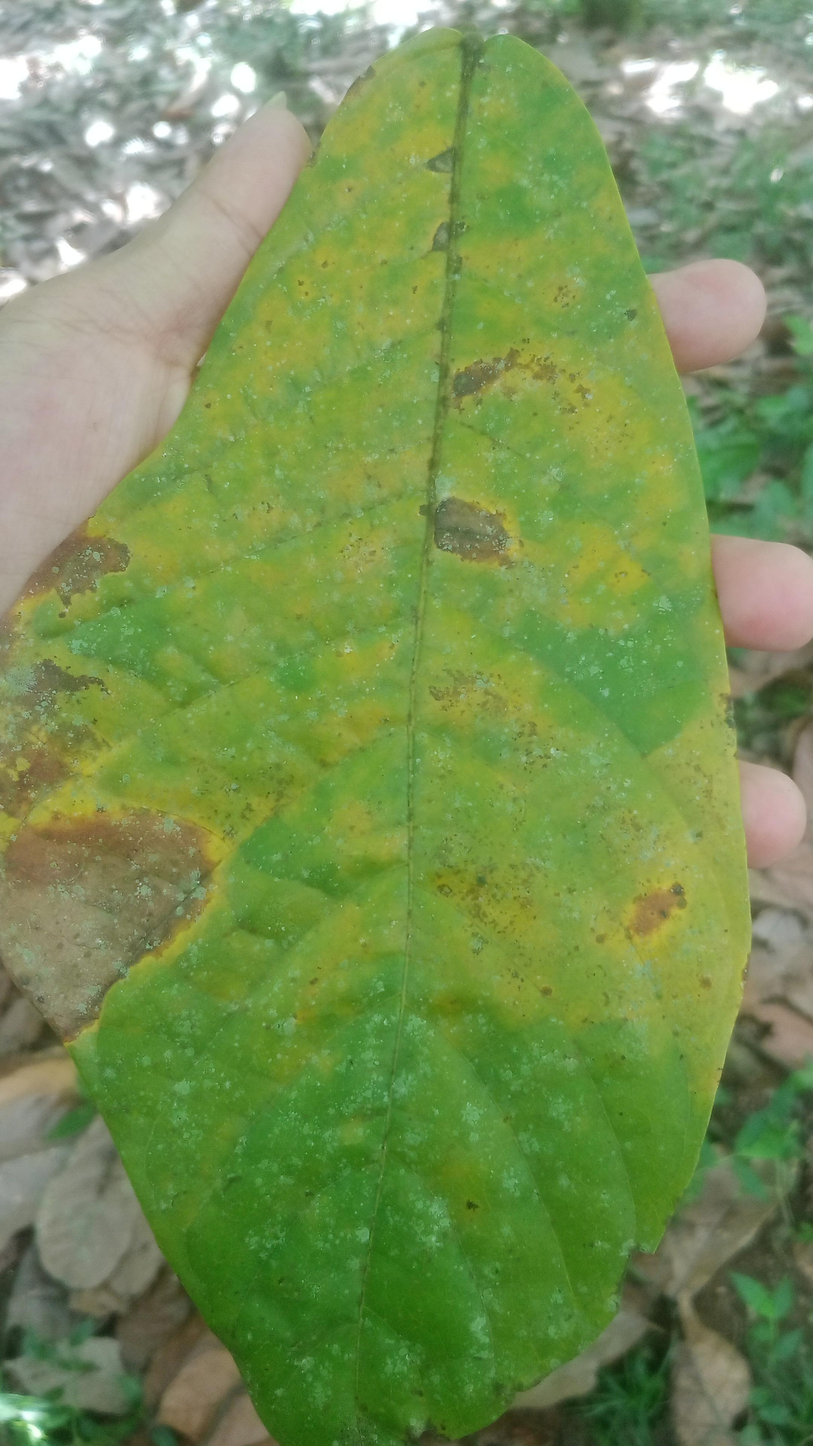deficienciia_fosforo: (0, 30, 747, 1446)
